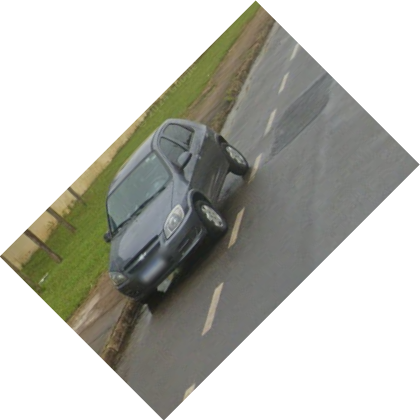car: (101, 116, 251, 311)
